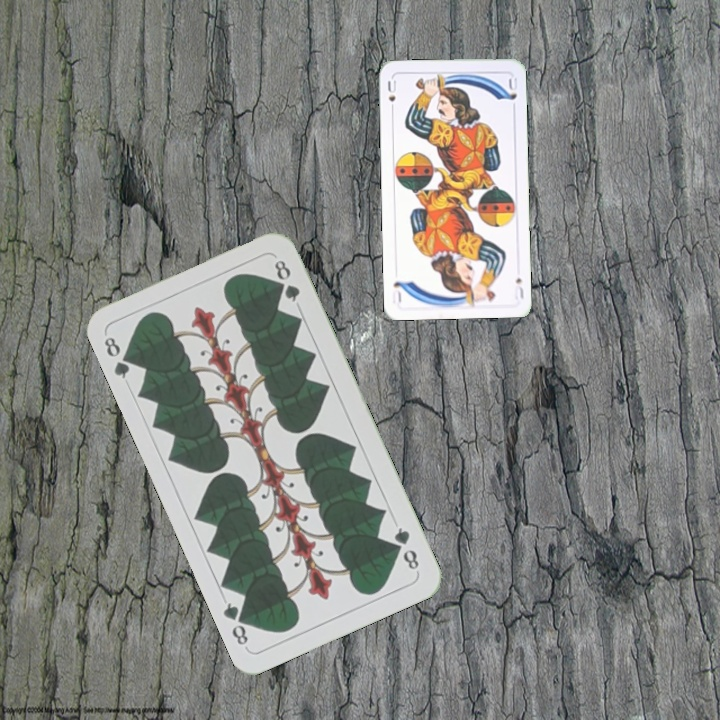G8: (99, 332, 137, 381), (390, 523, 422, 572)
SU: (384, 76, 398, 115), (510, 273, 526, 301)
